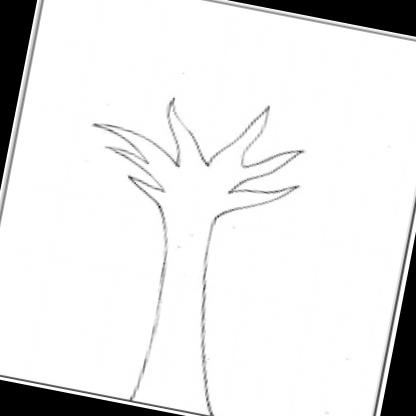branch_sharp: (79, 69, 318, 238)
trunk_straight: (131, 254, 232, 372)
